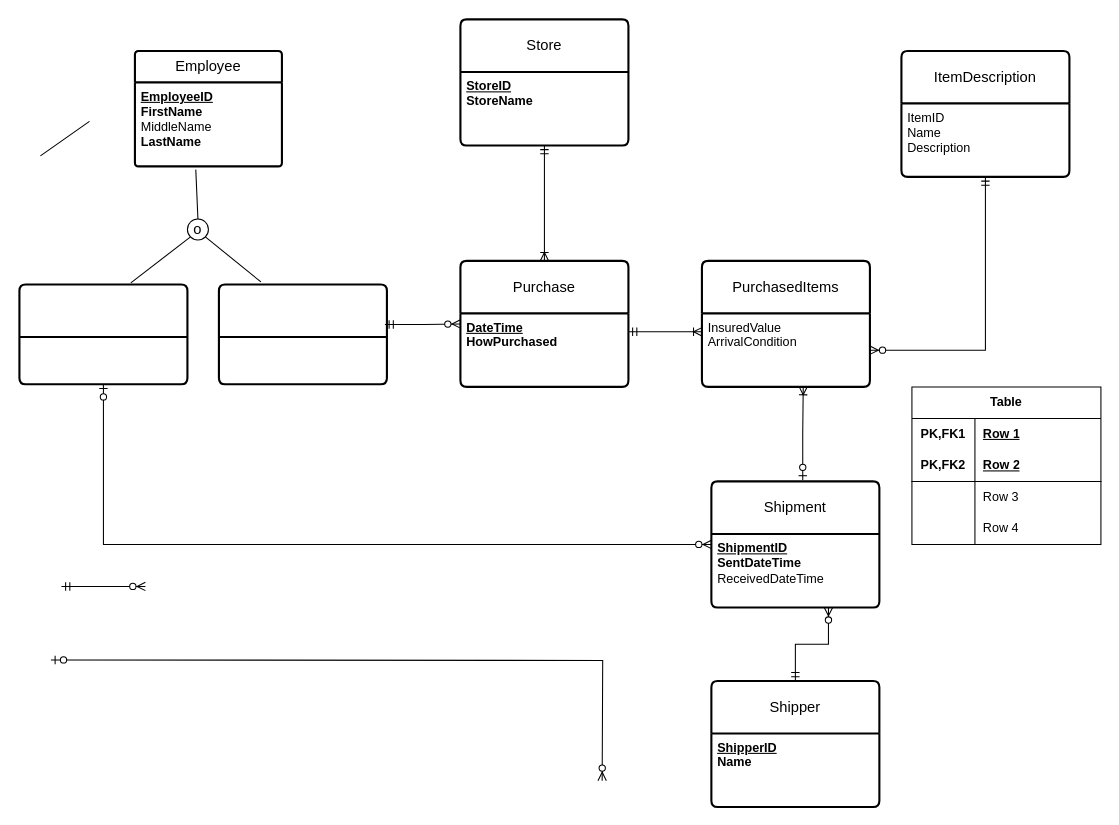
The diagram is 1119 pixels wide and 825 high, and some of its shapes have lost their labels. The centre of each missing label's shape, as x and y in pixels:
PurchasingAgent: pixel 302 334
ReceivingClerk: pixel 103 334
